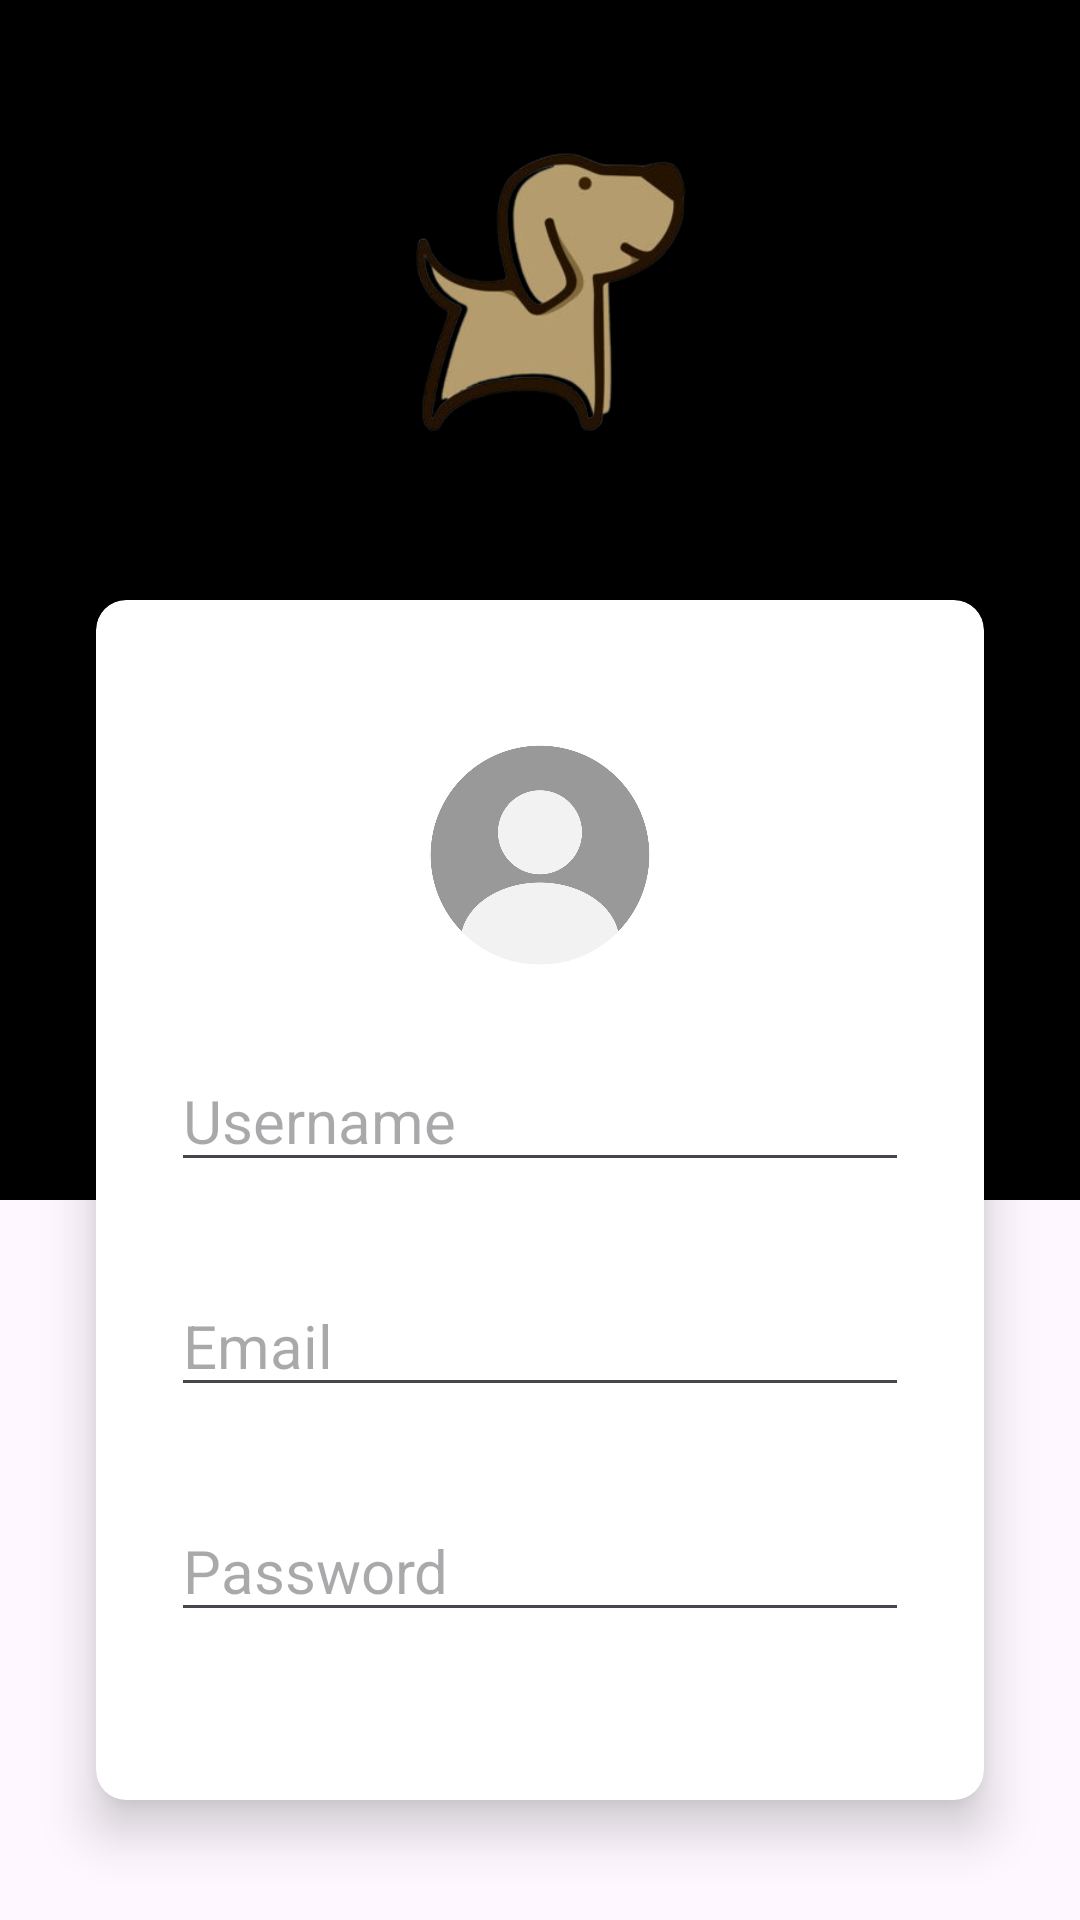

Icon click points for this 1080x1920 phone screenshot, format (x,y):
dog: (551,292)
